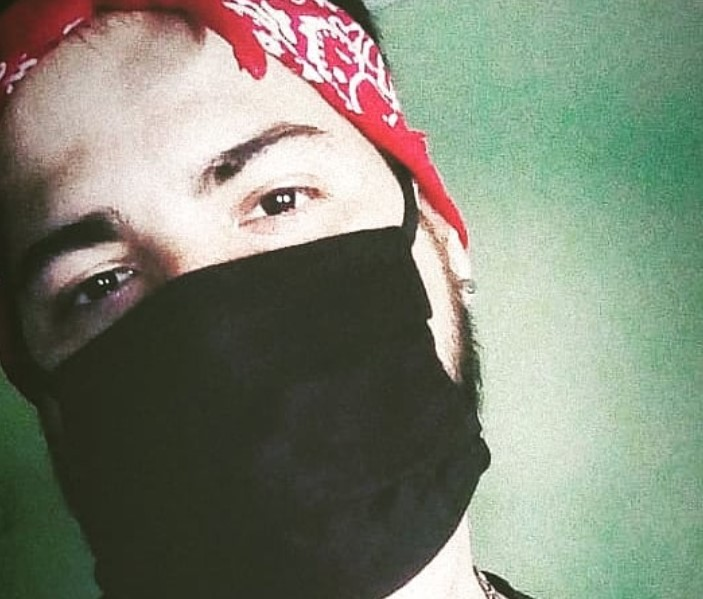face_with_mask: (7, 9, 495, 597)
